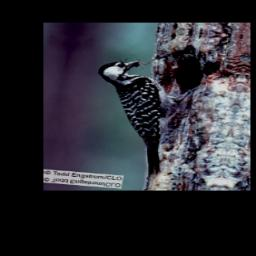Woodpecker: (77, 55, 193, 176)
